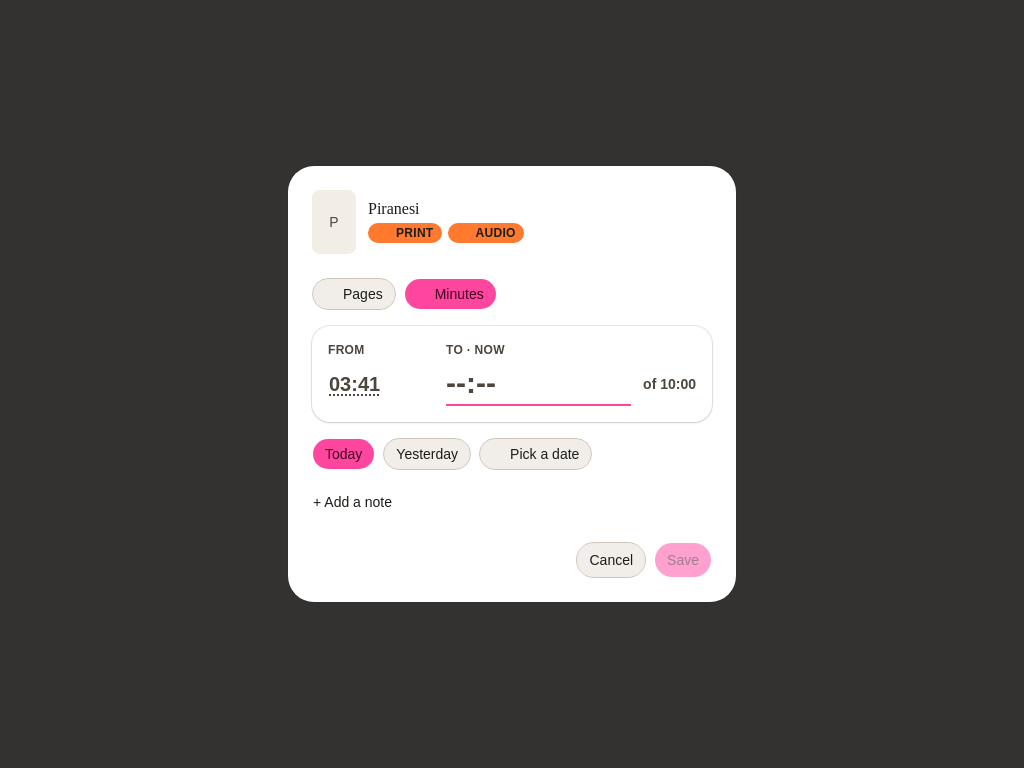
ProgressLogSheet › shows the shared frontier in the other unit when the unit is switched
The image size is (1024, 768).
Click the button "Pages" at point(354, 294), box [312,278,396,310]
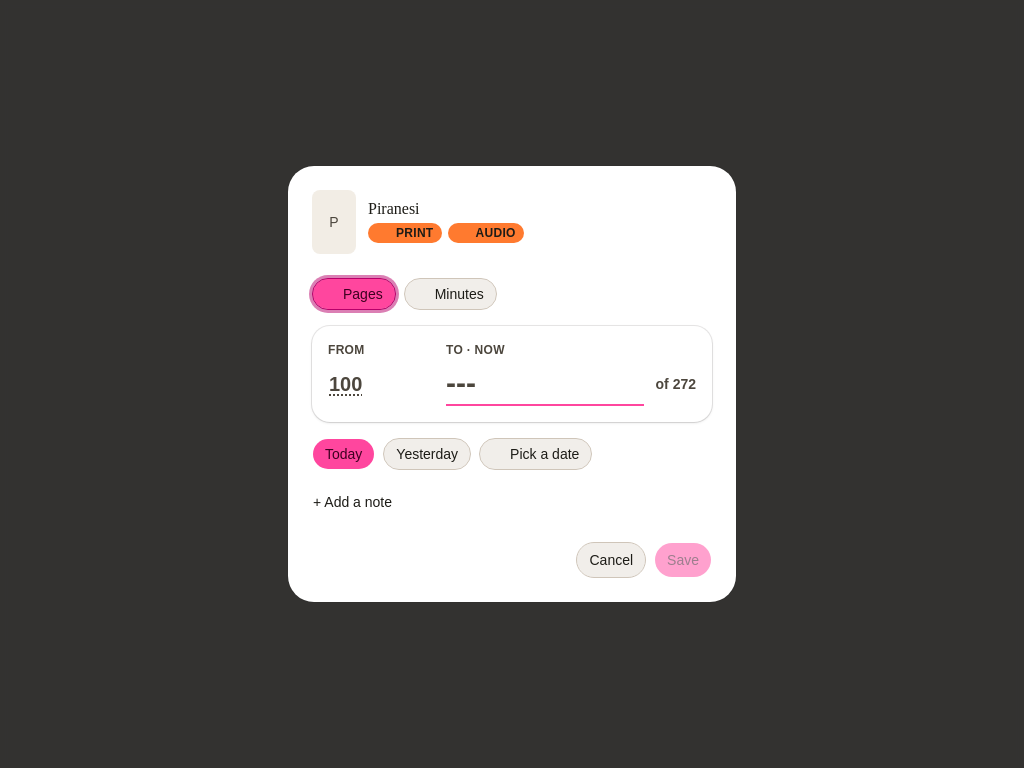
Expected: the field with placeholder "---" is empty, [446,362,644,406]
Now the button "100" is shown, box [328,368,363,400]
